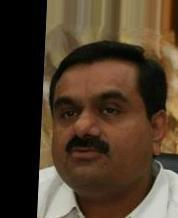face: (54, 95, 120, 164)
